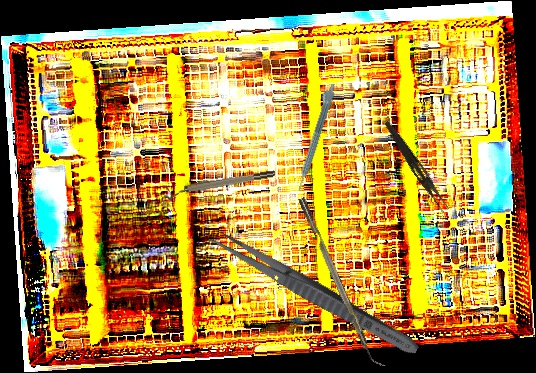Chopper: (298, 193, 386, 372)
Dressing Forceps: (206, 225, 424, 361), (379, 119, 453, 214)
Fixation Ring: (162, 168, 277, 201)
Handpiece: (290, 81, 338, 192)
